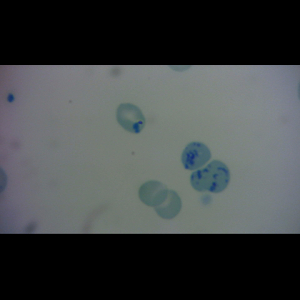aggregate reticulocyte: (189, 159, 231, 194), (180, 141, 213, 170)
erythrocyte: (115, 102, 147, 135), (151, 188, 183, 220), (137, 180, 168, 208)
